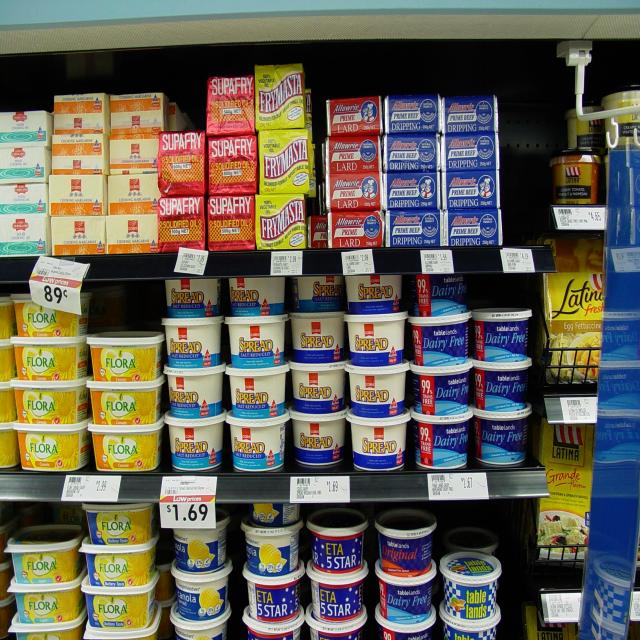empty_space: (504, 85, 547, 239), (104, 291, 163, 329)
